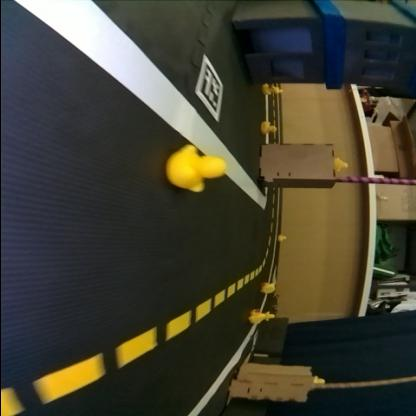Duckie: (168, 148, 224, 193), (251, 310, 266, 324), (260, 122, 276, 134), (334, 160, 348, 172), (264, 284, 276, 294), (263, 85, 273, 95), (266, 312, 274, 320), (276, 88, 284, 94), (316, 379, 324, 384), (280, 236, 286, 242)
QR code: (196, 58, 222, 122)
